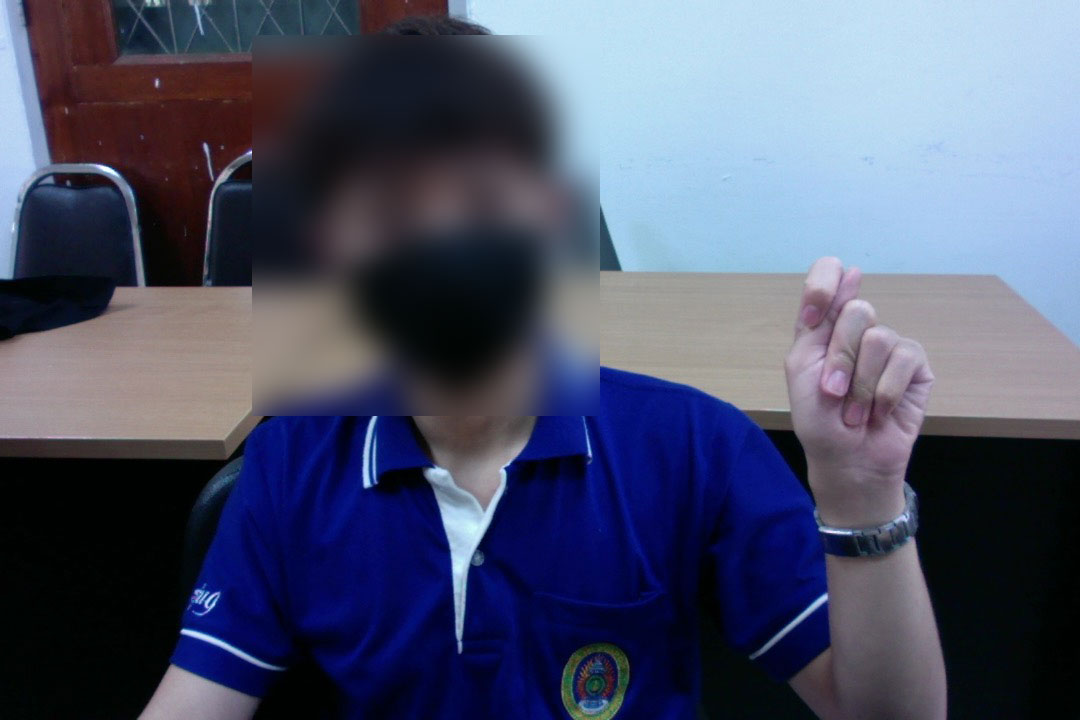tor: (778, 255, 938, 506)
